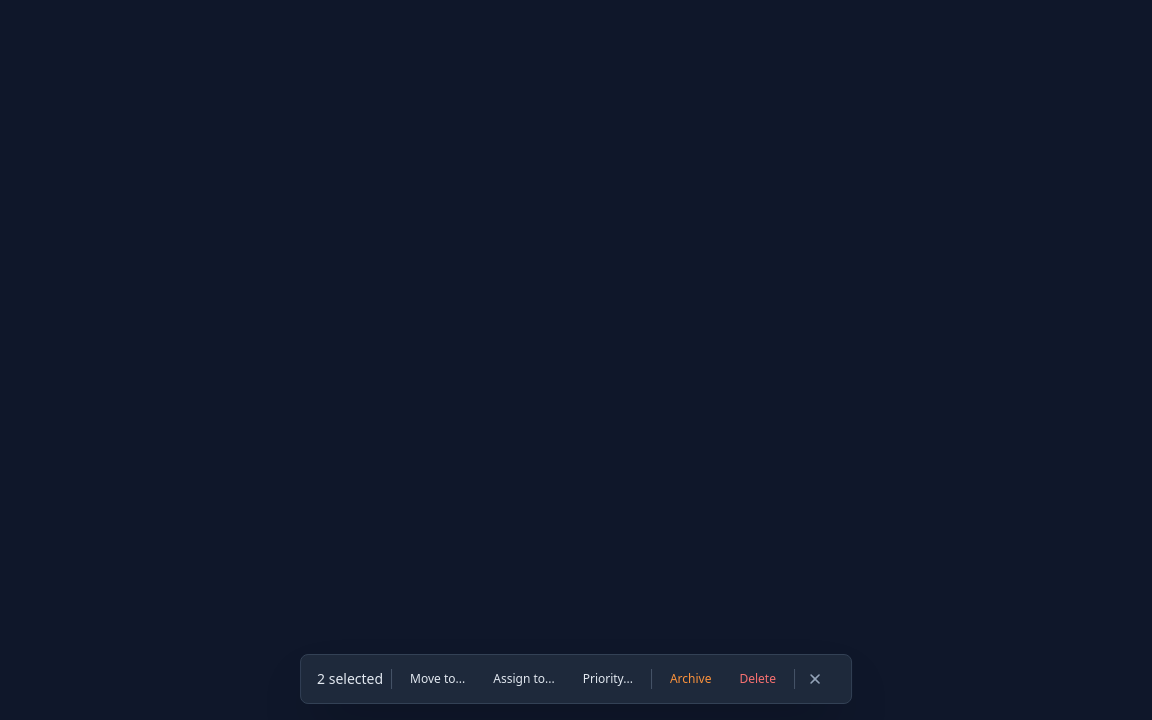
Test case: BulkActionToolbar › shows delete confirmation on delete click
What coordinates should you click on to do the following:
click the button "Delete"
I would click on:
 (758, 679)
Its box is x1=729 y1=665 x2=786 y2=693.
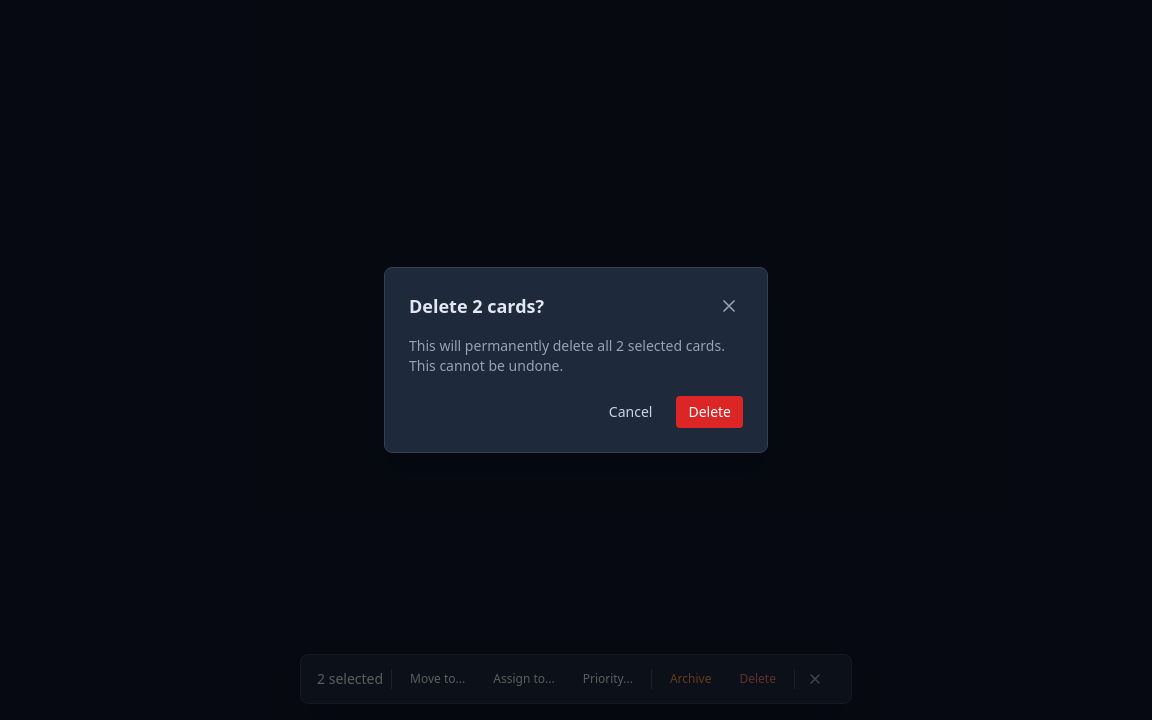
Expected: the heading "Delete 2 cards?" is shown, x1=409 y1=292 x2=544 y2=320
